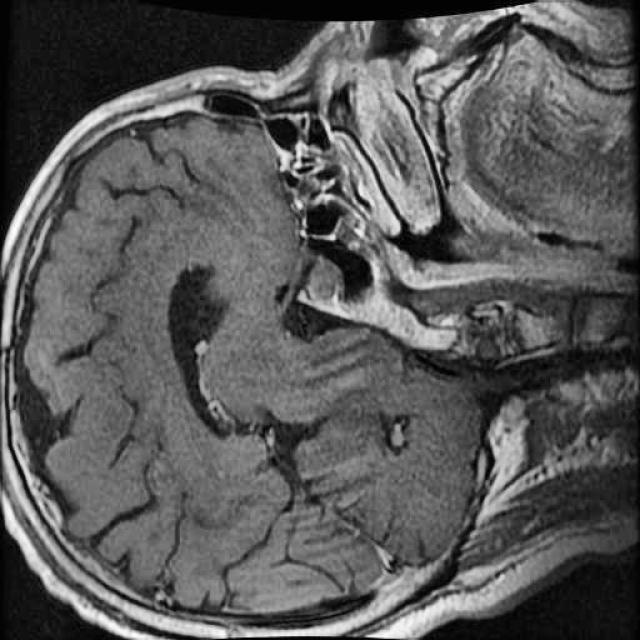Tumor: (289, 244, 374, 329)
